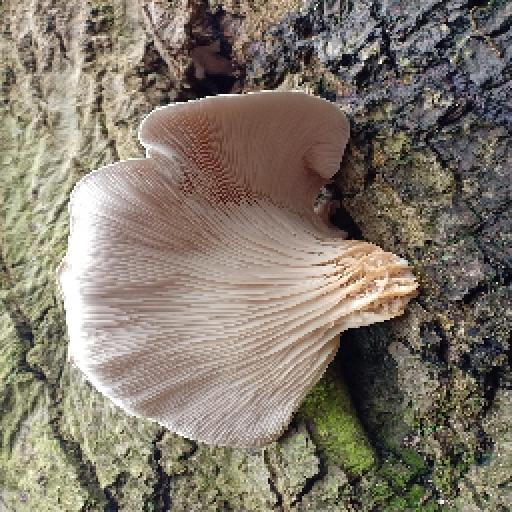mushrooms: (58, 91, 421, 444)
